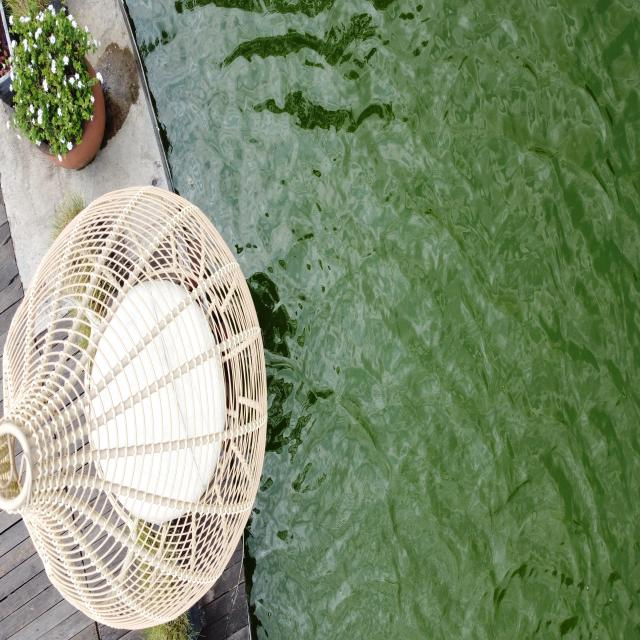Ponds: (116, 1, 640, 640)
